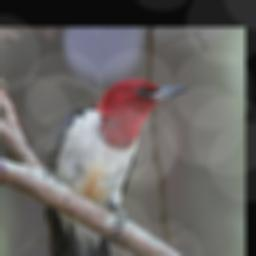Woodpecker: (44, 77, 191, 256)
